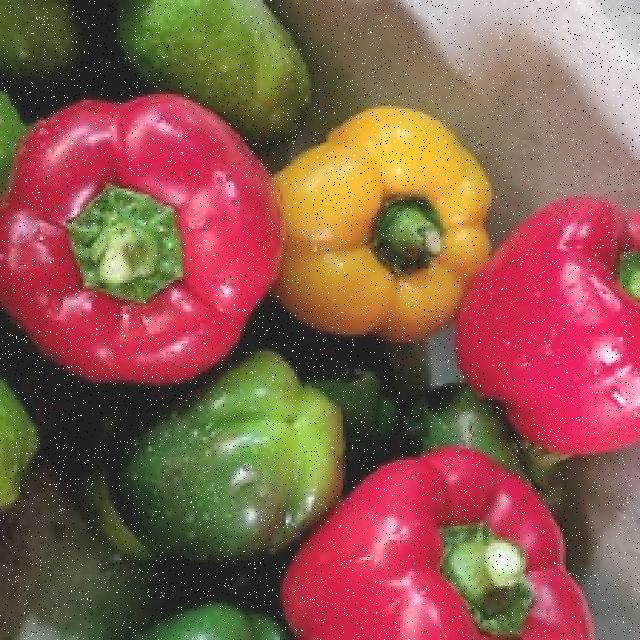Bell Pepper: (8, 60, 296, 398), (287, 87, 488, 385), (488, 122, 640, 501)
